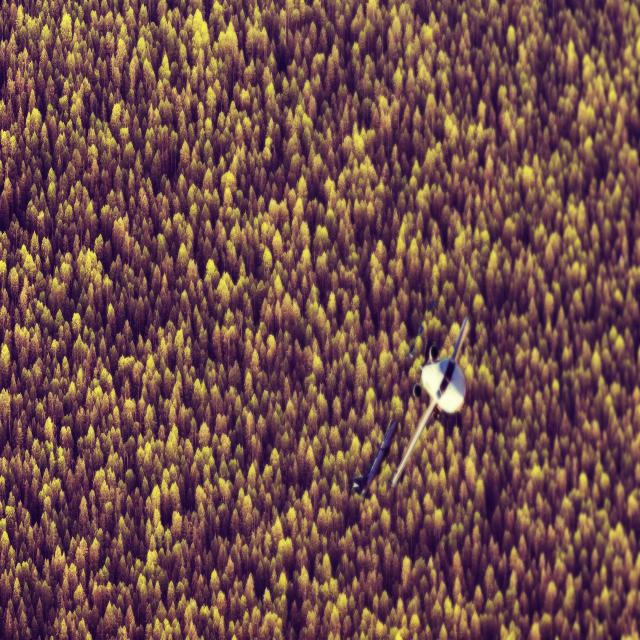airplane: (392, 319, 473, 487), (352, 418, 398, 497)
